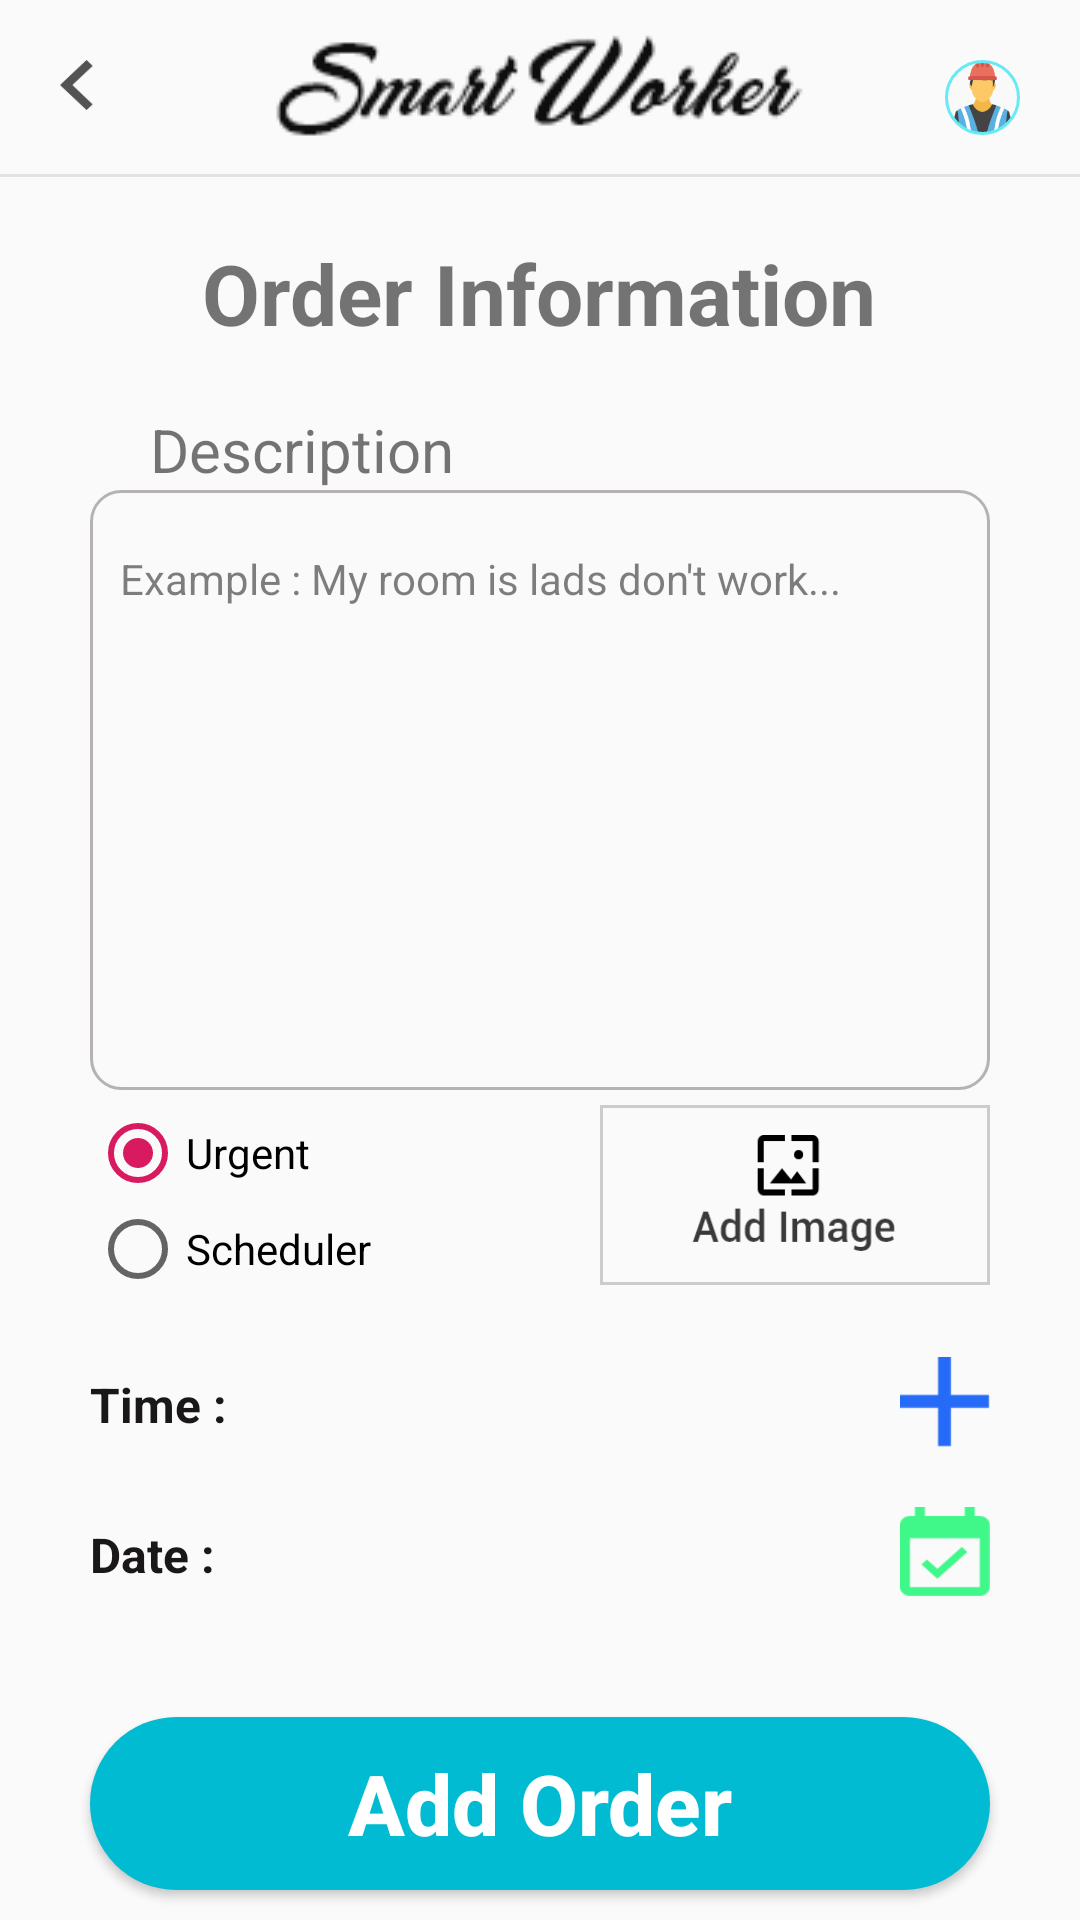

Icons on this 1080 × 1920 Android screen, each with its box as bbox=(x1, y1, x2, y2):
back: bbox=(60, 60, 93, 110)
calender: bbox=(900, 1507, 990, 1596)
plus: bbox=(900, 1357, 990, 1447)
worker profile: bbox=(945, 60, 1020, 135)
